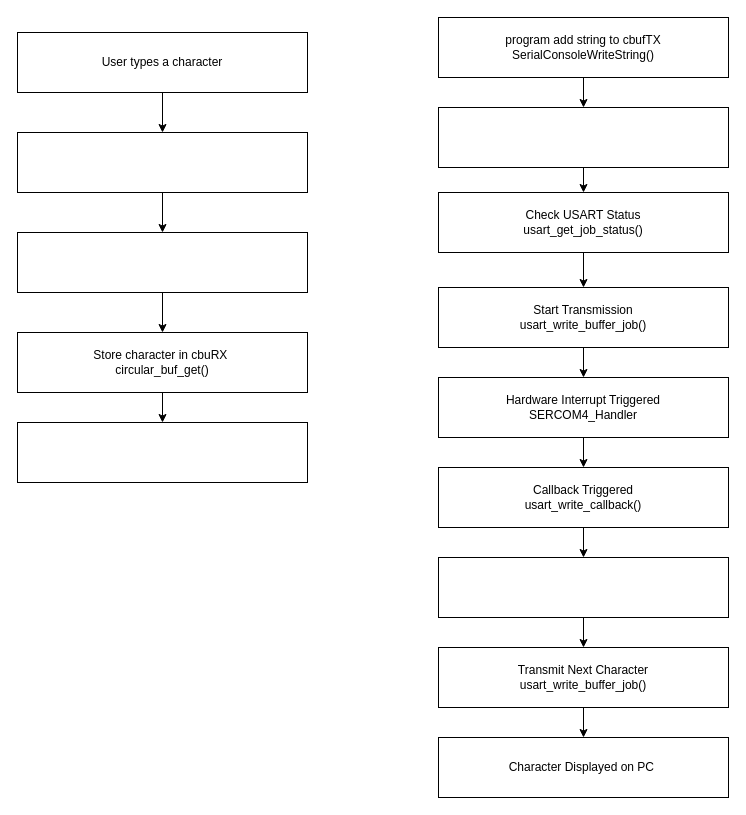
This 746x815 diagram has some shape labels left out. The centre of each missing label's shape, as x and y in pixels:
"Get Next Character circular_buf_get()" goes at pixel 583 587.
"Hardware interrupt triggered(_SERCOM_INTERRUPT_HANDLER)" goes at pixel 162 162.
"ISR and callback function triggered usart_read_callback()" goes at pixel 162 262.
"Restart read operation usart_read_buffer_job()" goes at pixel 162 452.
"Store Characters in cbufTx circular_buf_put()" goes at pixel 583 137.
